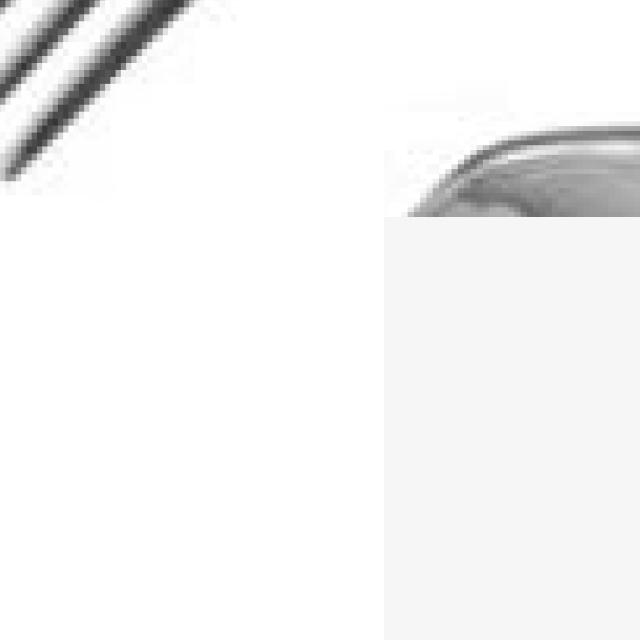forks: (0, 0, 384, 217), (384, 112, 640, 217)
